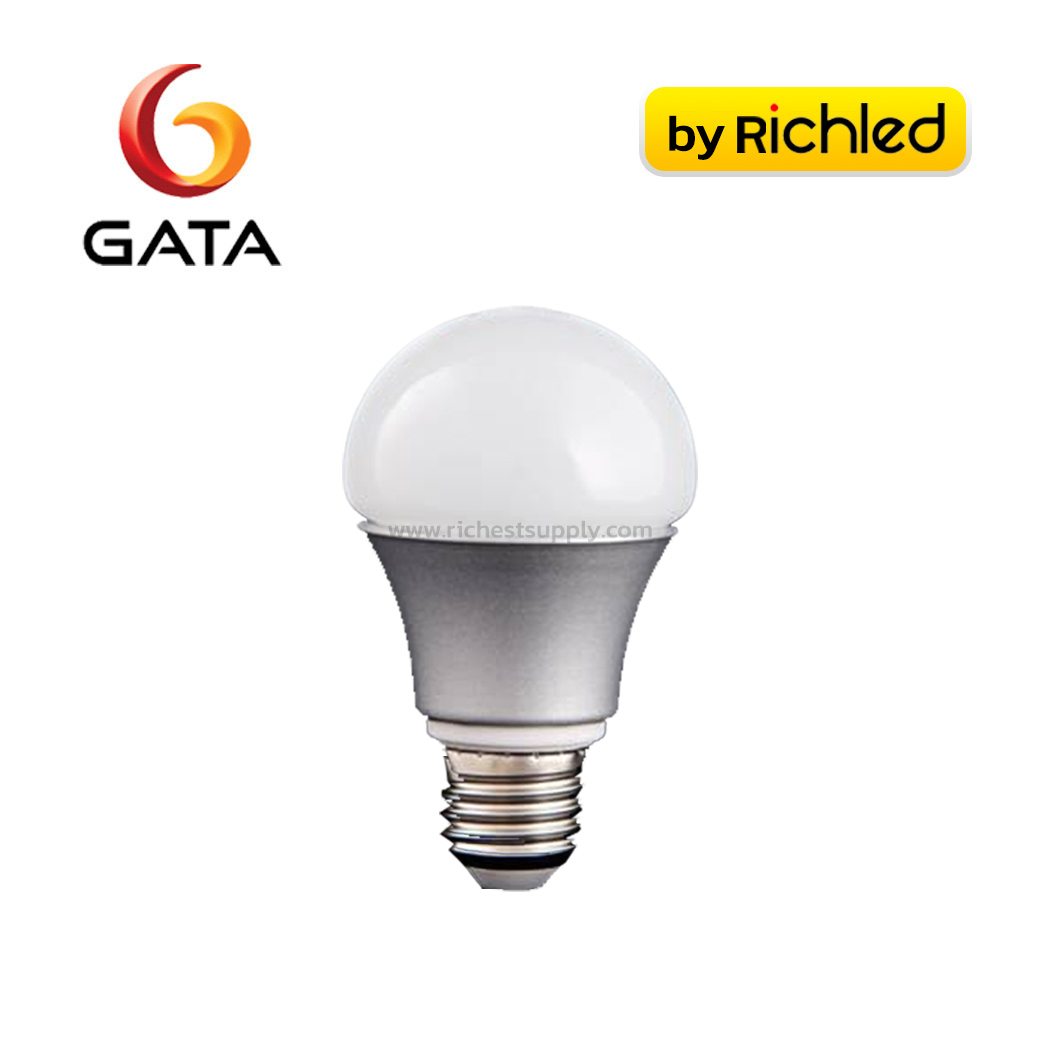Light_bulb: (336, 297, 706, 922)
